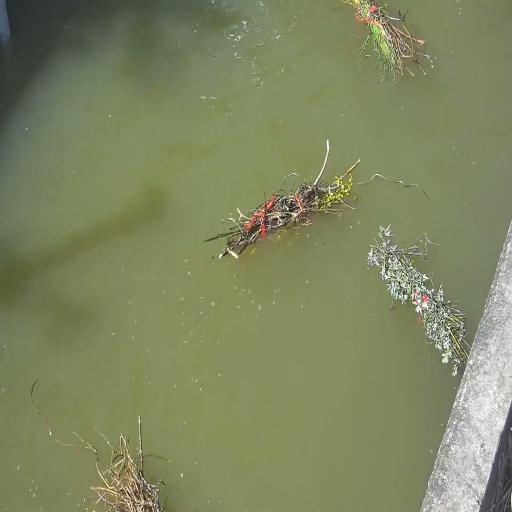twig: (204, 140, 359, 258), (367, 226, 468, 375), (91, 416, 164, 512), (352, 0, 428, 79)
